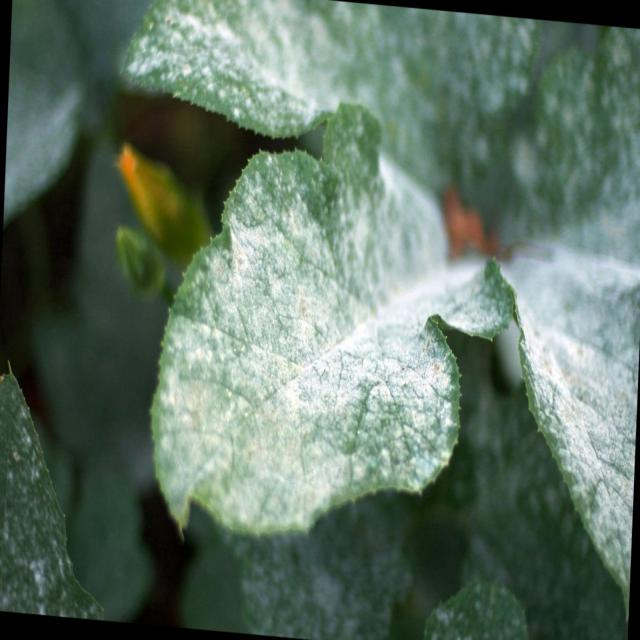Powdery Mildew: (115, 11, 640, 596)
